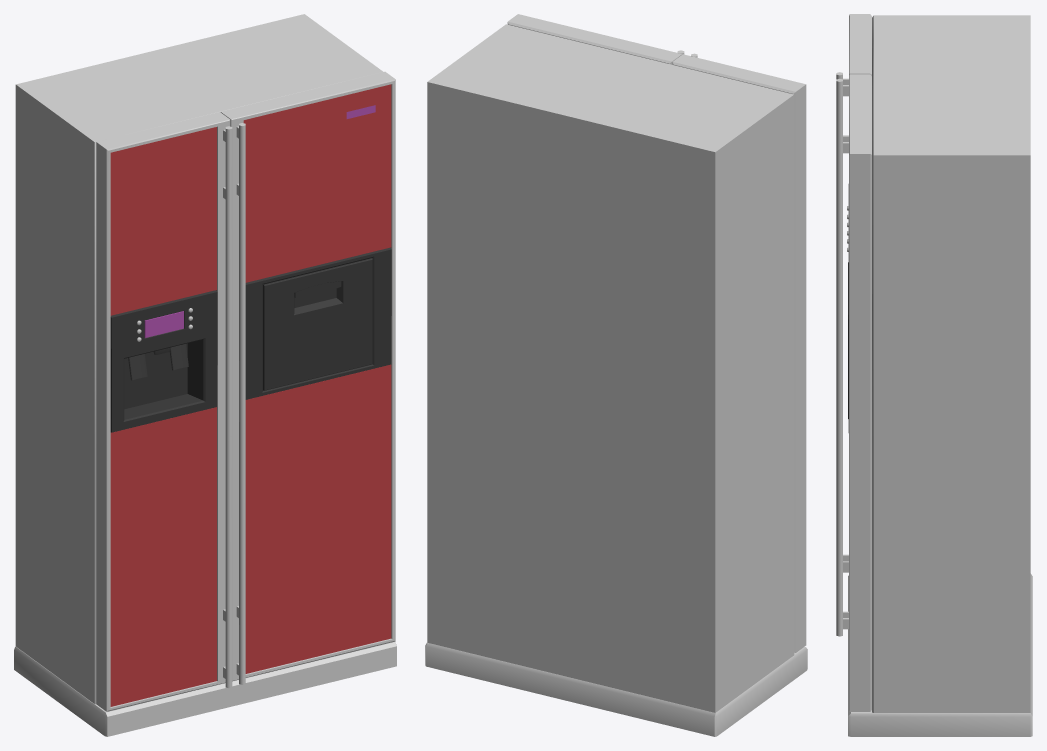
Rendered from RS21KLWR.FBX.
3 renders of one model, left to right at view 1: azimuth 30°, elevation 25°; view 2: azimuth 150°, elevation 25°; view 3: azimuth 270°, elevation 25°, orthographic.
Parts seen in each view (by area): view 1: RS21KLWR; view 2: RS21KLWR; view 3: RS21KLWR.
Part boxes in pixels (x1,y1,x2,y2): RS21KLWR: (14, 14, 396, 736); RS21KLWR: (425, 14, 807, 736); RS21KLWR: (836, 14, 1032, 736).
Size of the model in its own units: 99 by 58 by 190.
